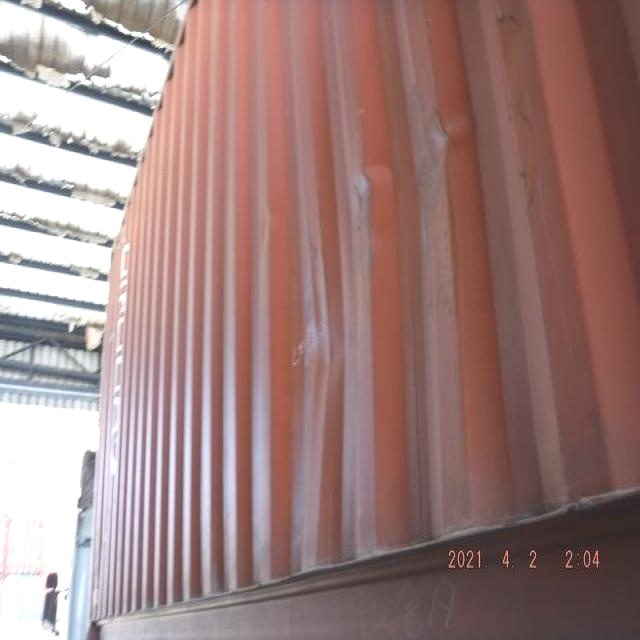Dent: (336, 101, 490, 237), (267, 232, 363, 450)
